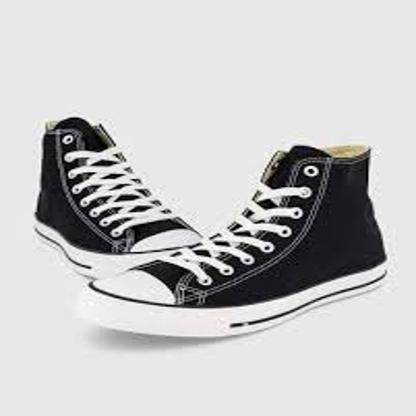not trash: (86, 141, 396, 345), (34, 112, 207, 284)
